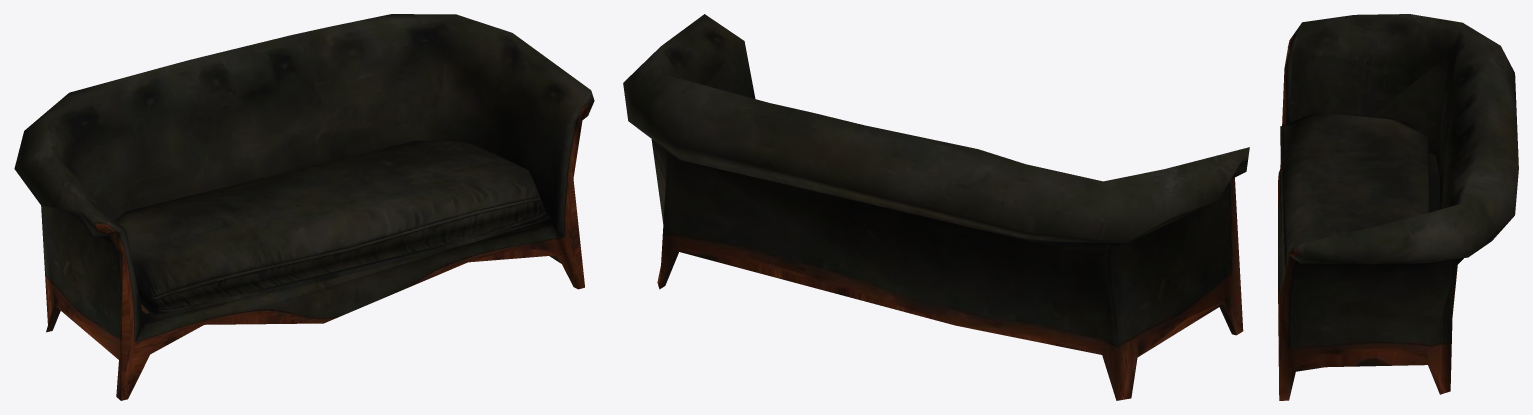
3 renders of one model, left to right at view 1: azimuth 30°, elevation 25°; view 2: azimuth 150°, elevation 25°; view 3: azimuth 270°, elevation 25°, orthographic. The views are drawn at different scales.
Parts seen in each view (by area): view 1: sofa_02_Base; view 2: sofa_02_Base; view 3: sofa_02_Base.
Part boxes in pixels (bbox=[...]): sofa_02_Base: bbox=[14, 14, 594, 400]; sofa_02_Base: bbox=[623, 14, 1249, 400]; sofa_02_Base: bbox=[1278, 14, 1518, 400].
Size of the model in its own units: 1.81 by 0.7095 by 0.7998.
1 material, 1 textured.
